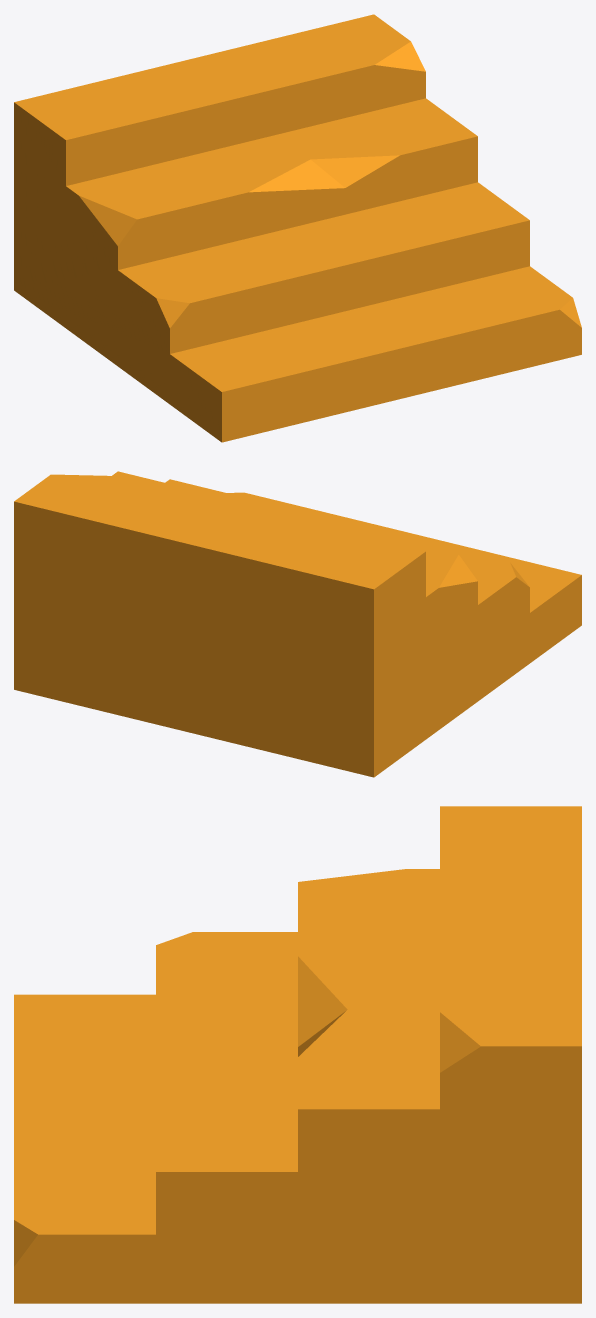
File: SM_Buildings_Stairs_1x1_01P.fbx
The picture shows the model from 3 angles, top to bottom: view 1: azimuth 30°, elevation 25°; view 2: azimuth 150°, elevation 25°; view 3: azimuth 270°, elevation 25°; orthographic projection. The views are drawn at different scales.
Parts seen in each view (by area): view 1: SM_Buildings_Stairs_1x1_01P; view 2: SM_Buildings_Stairs_1x1_01P; view 3: SM_Buildings_Stairs_1x1_01P.
Part boxes in pixels (bbox=[...]): SM_Buildings_Stairs_1x1_01P: bbox=[14, 14, 581, 442]; SM_Buildings_Stairs_1x1_01P: bbox=[14, 471, 581, 777]; SM_Buildings_Stairs_1x1_01P: bbox=[14, 806, 581, 1303].
Bounding box in the file's own units: 100 × 49.95 × 100.
